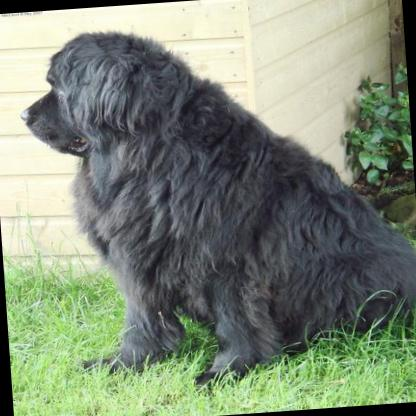Newfoundland: (15, 10, 416, 406)
